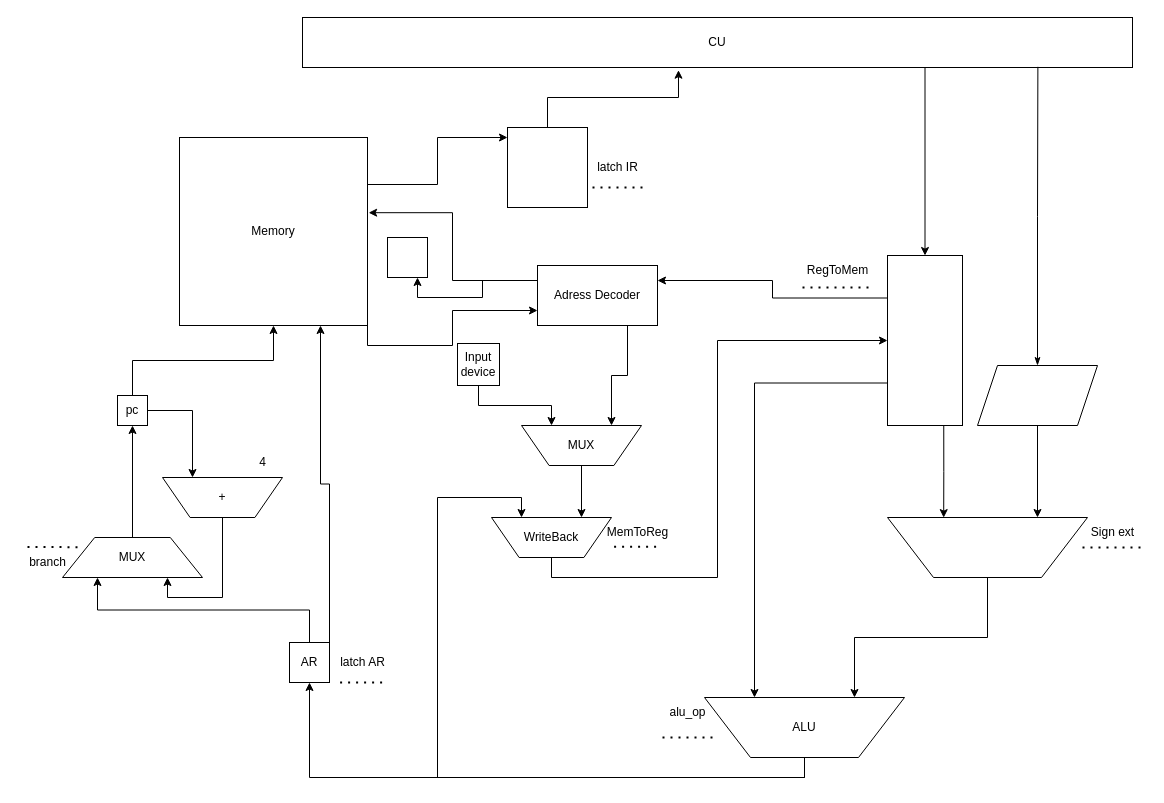
The diagram is 1164 pixels wide and 803 high, and some of its shapes have lost their labels. Each missing label, with the centre of its shape:
ALUSrc: [987,547]
imm value sign extend: [1037,395]
IR: [547,167]
Output device: [407,257]
Register file: [924,340]
